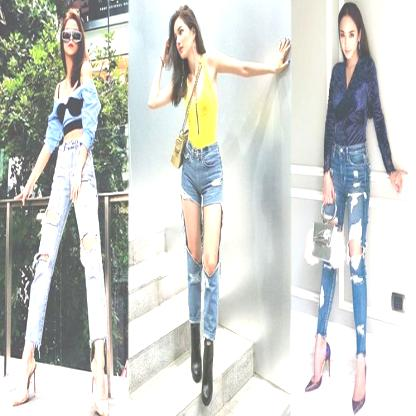dress: (324, 58, 397, 178)
jacket: (44, 79, 102, 152), (185, 54, 218, 146)
